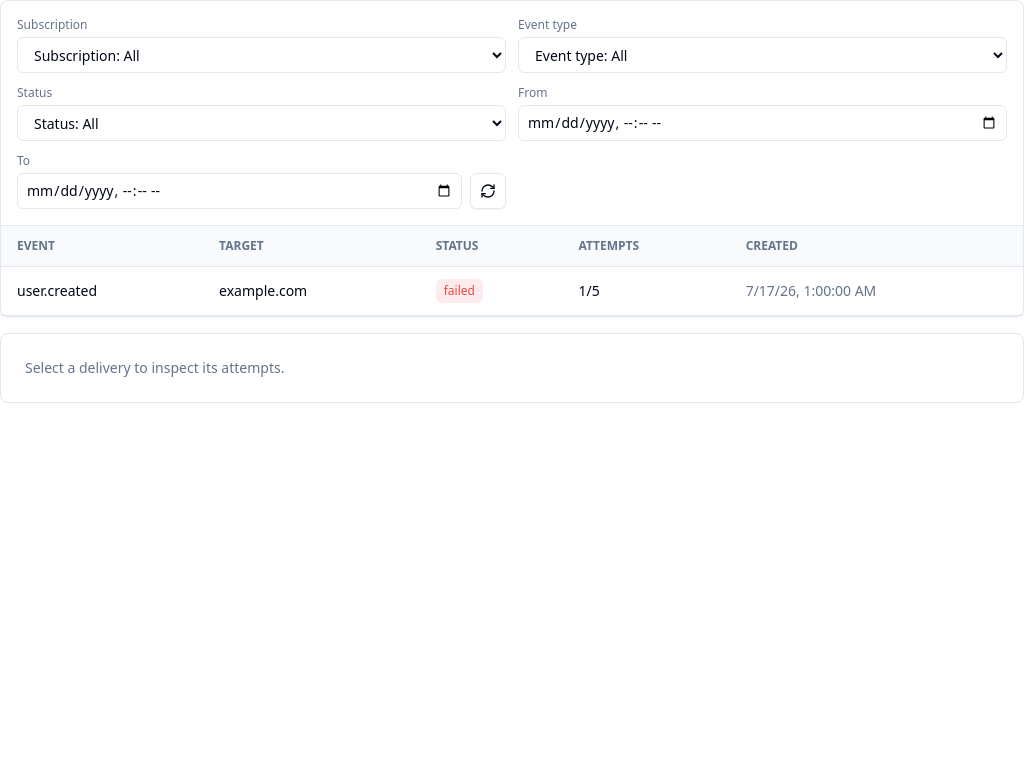
it: webhook delivery history › renders safe delivery history and attempt details from real API responses
The width and height of the screenshot is (1024, 768).
Expected: the text "example.com" is shown, [203,266,420,316]
What coordinates should you click on to do the following:
click the cell "user.created"
I would click on:
 (102, 291)
Its box is [1,266,203,316].
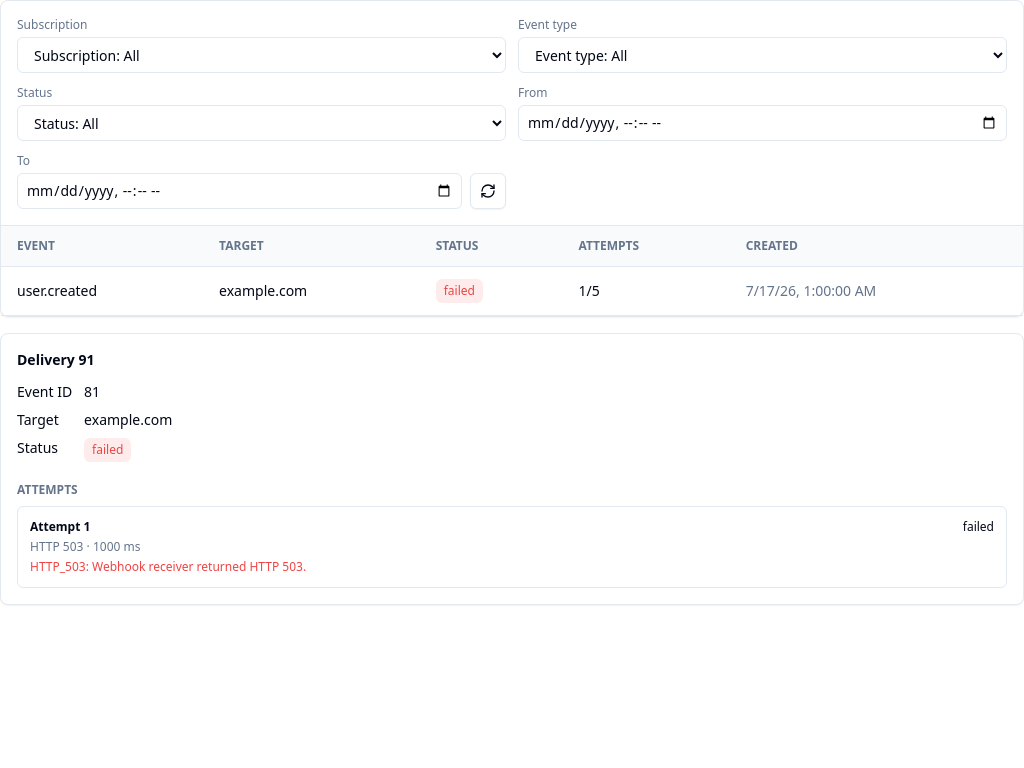
Expected: the text "Attempt 1" is shown, [30,519,90,535]
Expected: the text "HTTP 503 · 1000 ms" is shown, [30,538,140,555]
